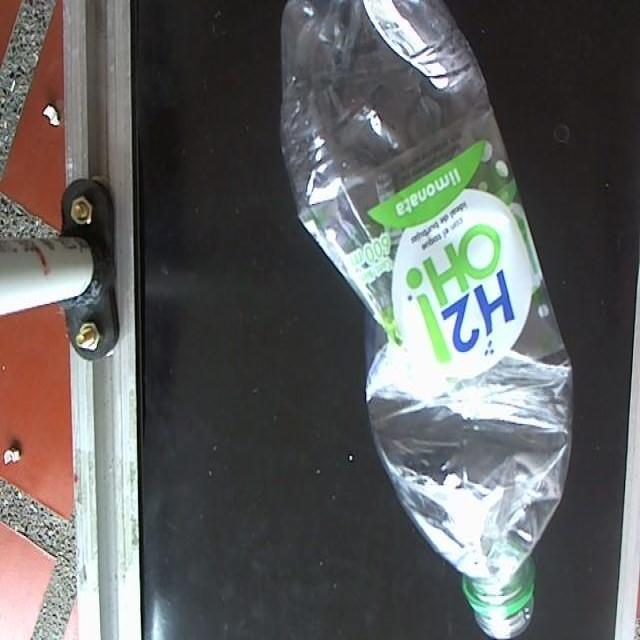defect: (278, 0, 577, 640)
